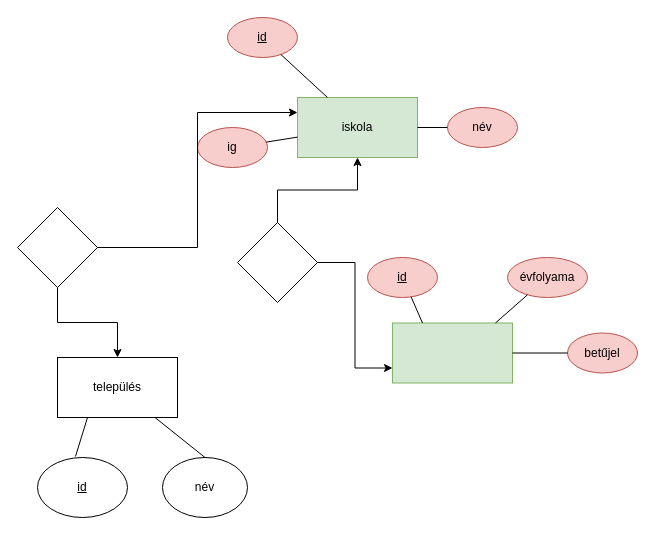
Image size: 655x535. Some labels were removed from this diagram. Here are the shapes that lost their labels. From the top down, the box of each, then its label:
(16, 206, 98, 288): települése
(236, 222, 318, 302): osztálya
(392, 322, 512, 383): osztály
